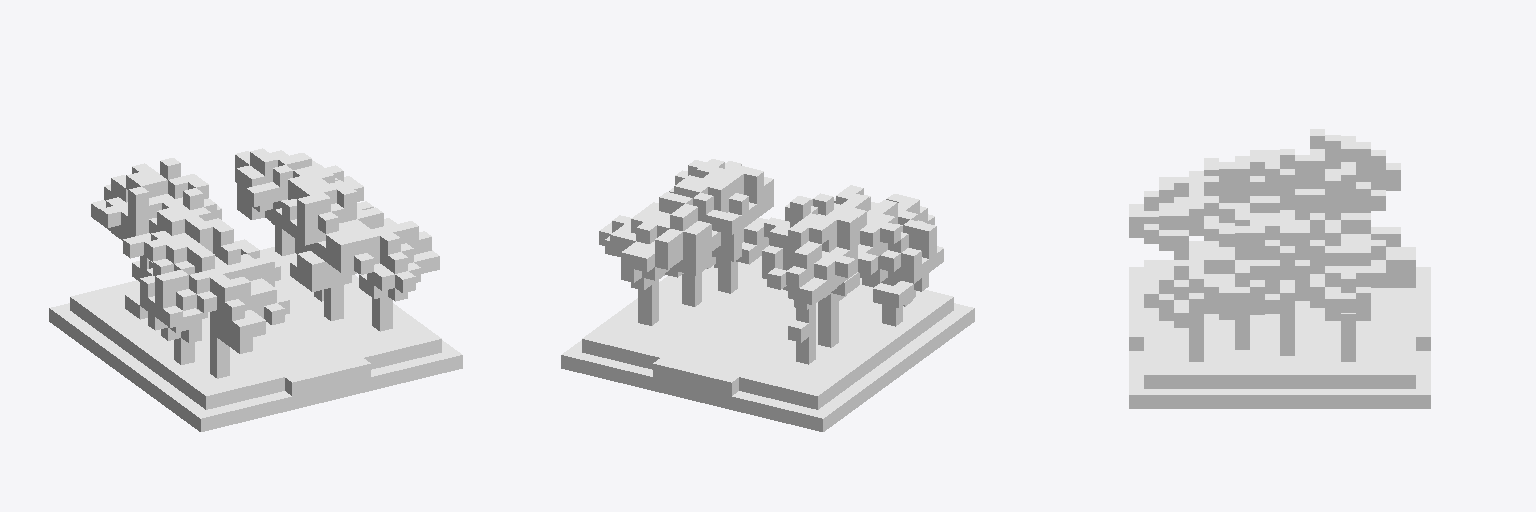
Rendered from straighttrees.obj.
3 views of the same model, side by side, from view 1: azimuth 30°, elevation 25°; view 2: azimuth 150°, elevation 25°; view 3: azimuth 270°, elevation 25° (orthographic).
Size of the model in its own units: 20 by 13 by 20.